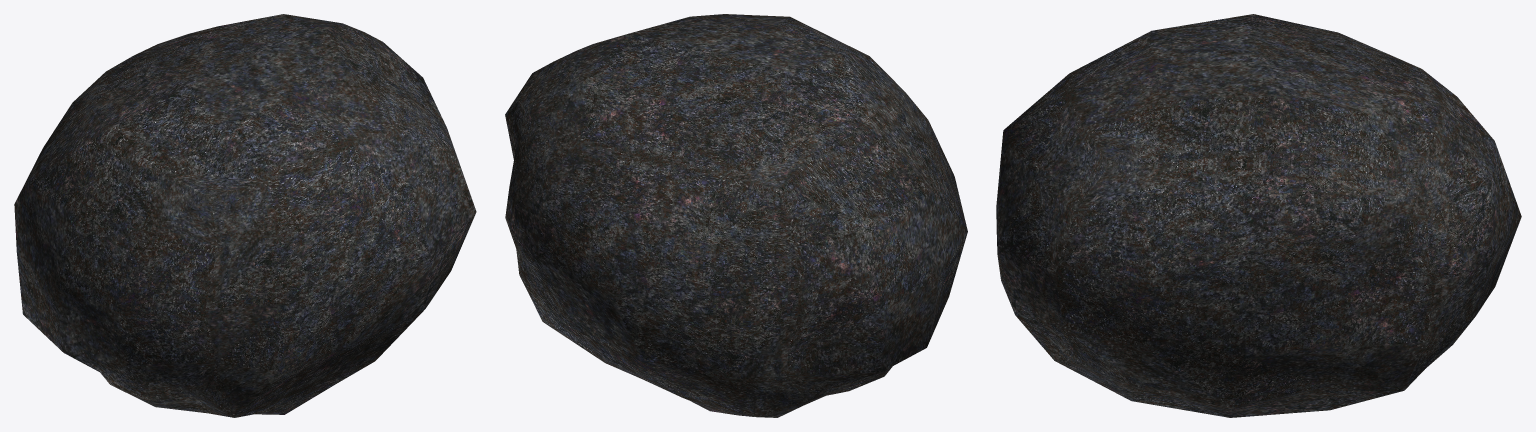
Rendered from asteroid_metal_small_s01_l0.fbx.
3 renders of one model, left to right at view 1: azimuth 30°, elevation 25°; view 2: azimuth 150°, elevation 25°; view 3: azimuth 270°, elevation 25°, orthographic. The views are drawn at different scales.
Visible parts, largest first — view 1: mesh_node; view 2: mesh_node; view 3: mesh_node.
Part boxes in pixels (x1,y1,x2,y2): mesh_node: (14,14,476,417); mesh_node: (505,14,967,417); mesh_node: (996,14,1521,417).
Size of the model in its own units: 24.61 by 20.07 by 25.73.
